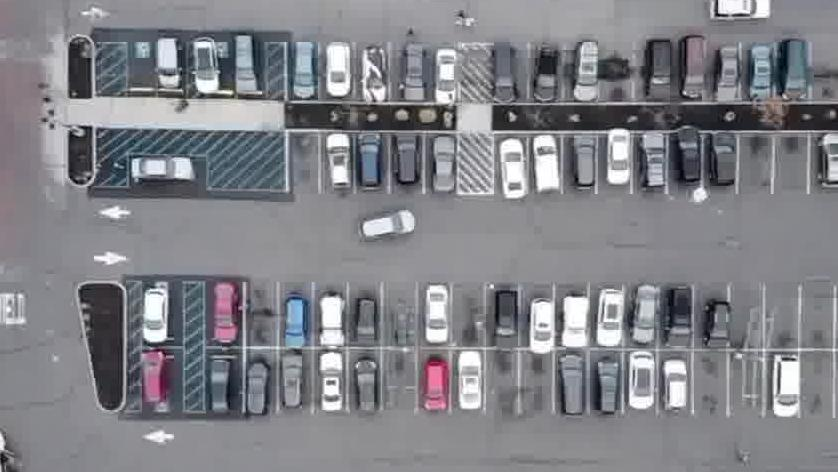car: (451, 353, 489, 420), (768, 352, 803, 422), (781, 40, 817, 105), (643, 39, 678, 104), (497, 136, 532, 201), (131, 153, 202, 185), (680, 36, 711, 105), (705, 133, 741, 192), (313, 354, 346, 418), (557, 358, 589, 424), (627, 349, 661, 411), (357, 208, 417, 243), (325, 133, 358, 196), (671, 127, 704, 190), (593, 355, 625, 418), (491, 287, 522, 352), (492, 46, 523, 110), (533, 141, 566, 201), (528, 295, 562, 353), (664, 284, 695, 347), (659, 354, 690, 417), (569, 137, 601, 198), (211, 279, 241, 344), (422, 279, 451, 344), (571, 38, 599, 105), (351, 358, 382, 418), (421, 358, 452, 418), (560, 293, 592, 351), (707, 0, 771, 29), (194, 37, 227, 93), (596, 288, 626, 349), (431, 138, 460, 200), (393, 135, 423, 194), (356, 133, 385, 194), (319, 295, 350, 352), (324, 37, 353, 97), (404, 44, 433, 104), (245, 359, 273, 421), (156, 35, 187, 91), (642, 133, 671, 192), (139, 350, 168, 409), (234, 37, 263, 95), (748, 45, 777, 103), (702, 296, 732, 352), (208, 356, 235, 418), (143, 286, 171, 345), (293, 39, 320, 100), (535, 47, 561, 110), (437, 50, 464, 110), (632, 281, 657, 345), (363, 48, 391, 105), (281, 353, 308, 412), (605, 124, 631, 185), (281, 296, 310, 349), (716, 45, 741, 106), (816, 138, 838, 196), (356, 299, 380, 352)
